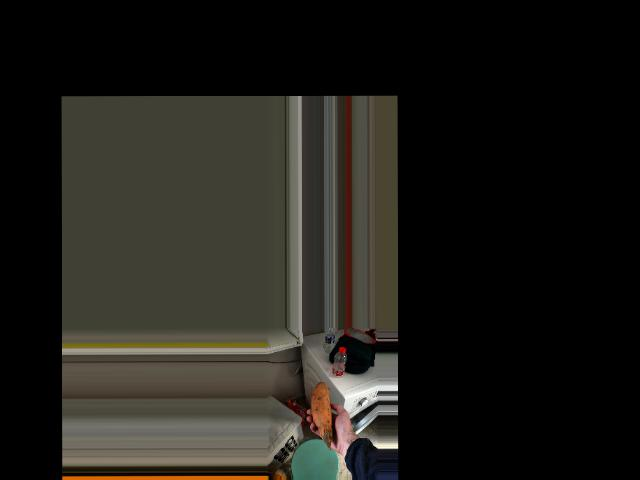sweet_potato: (310, 388, 334, 442)
